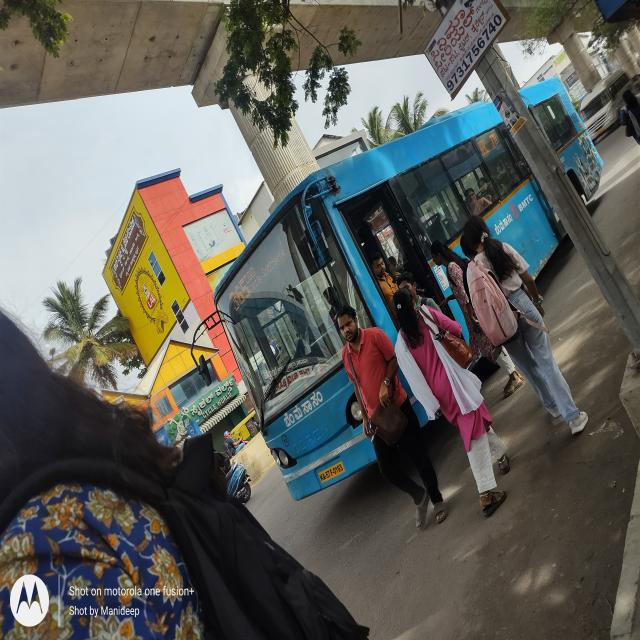bus: (203, 68, 579, 507)
display: (212, 212, 301, 319)
